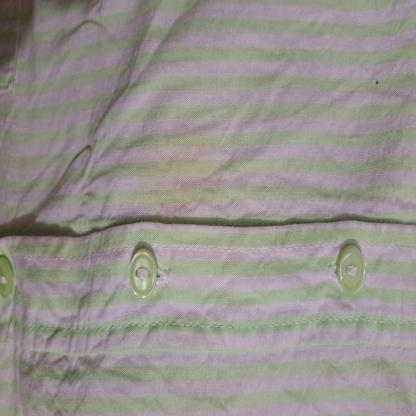spot: (138, 86, 231, 212)
